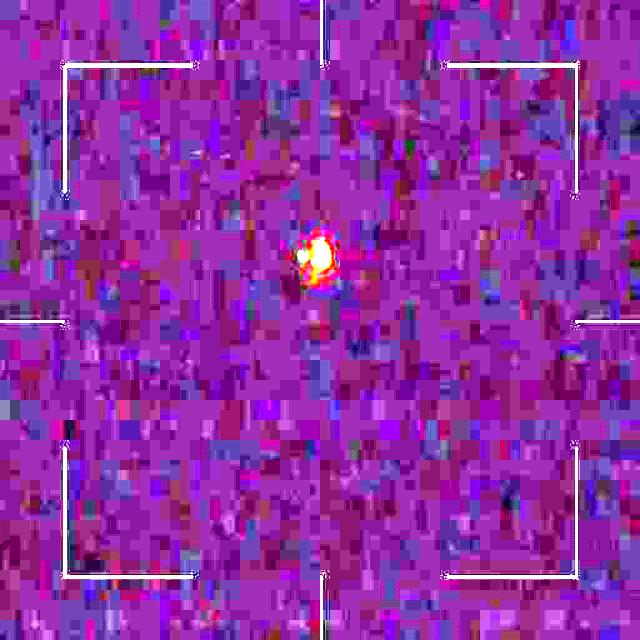bird: (296, 236, 332, 289)
